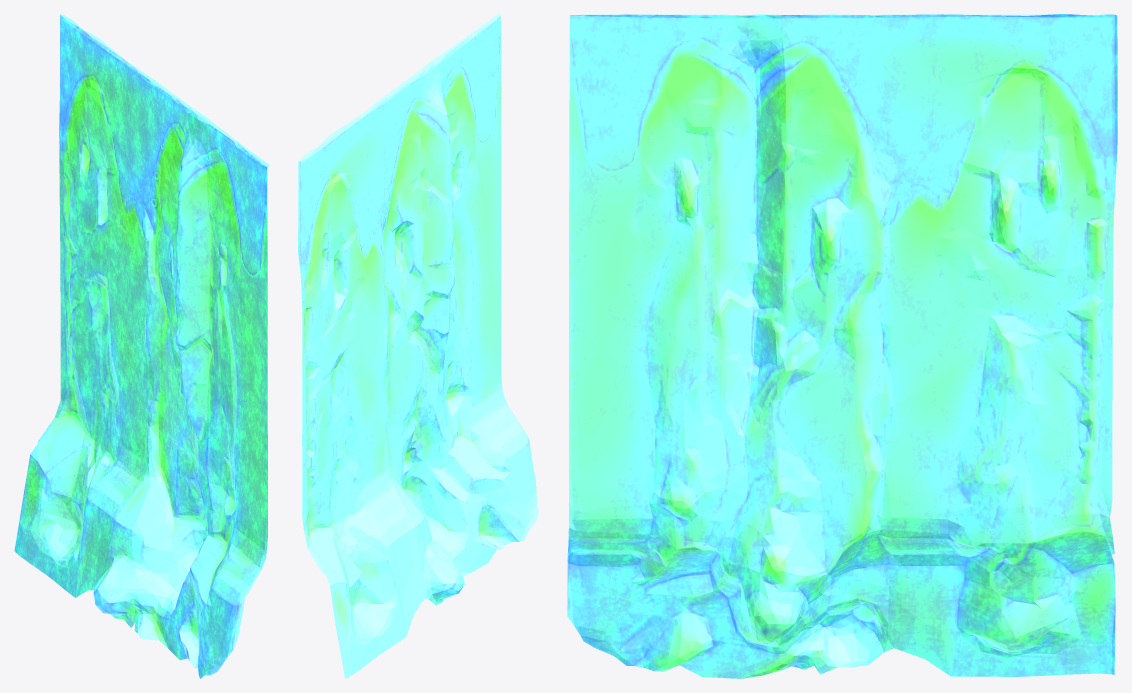
File: FSideWall.fbx
3 renders of one model, left to right at view 1: azimuth 30°, elevation 25°; view 2: azimuth 150°, elevation 25°; view 3: azimuth 270°, elevation 25°, orthographic. The views are drawn at different scales.
Parts seen in each view (by area): view 1: HL_FortressWall_Side.mo; view 2: HL_FortressWall_Side.mo; view 3: HL_FortressWall_Side.mo.
Part boxes in pixels (x1,y1,x2,y2): HL_FortressWall_Side.mo: [14, 14, 269, 678]; HL_FortressWall_Side.mo: [298, 14, 538, 678]; HL_FortressWall_Side.mo: [567, 14, 1117, 678].
Bounding box in the file's own units: 1366 × 7431 × 5344.
